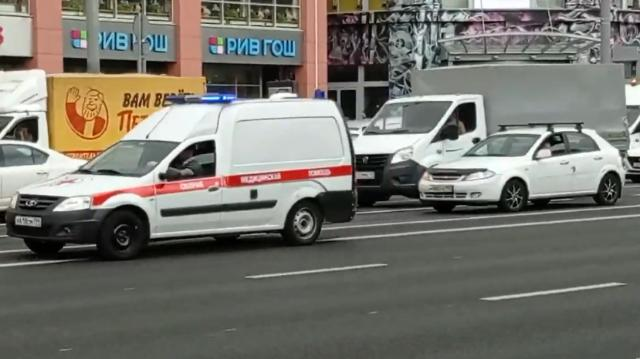ambulance: (6, 92, 356, 261)
non emergency car: (357, 62, 624, 210), (421, 129, 626, 217), (4, 76, 207, 156)
